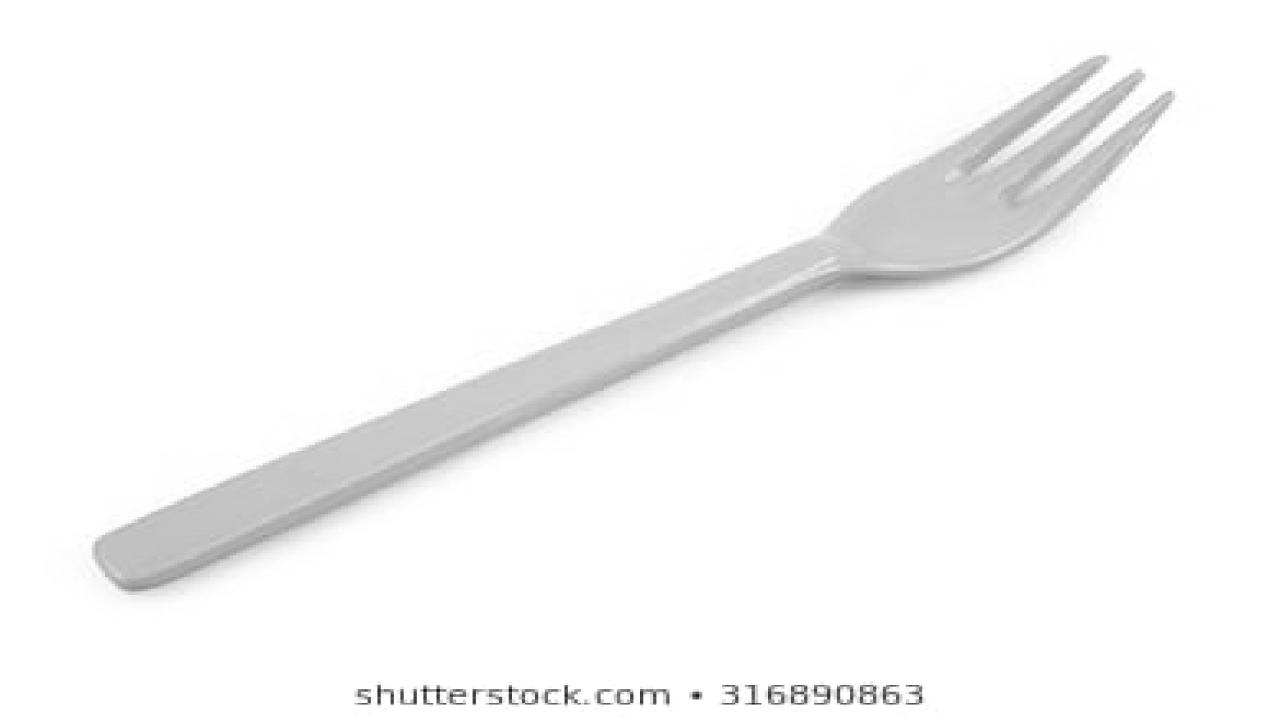fork: (89, 52, 1175, 592)
